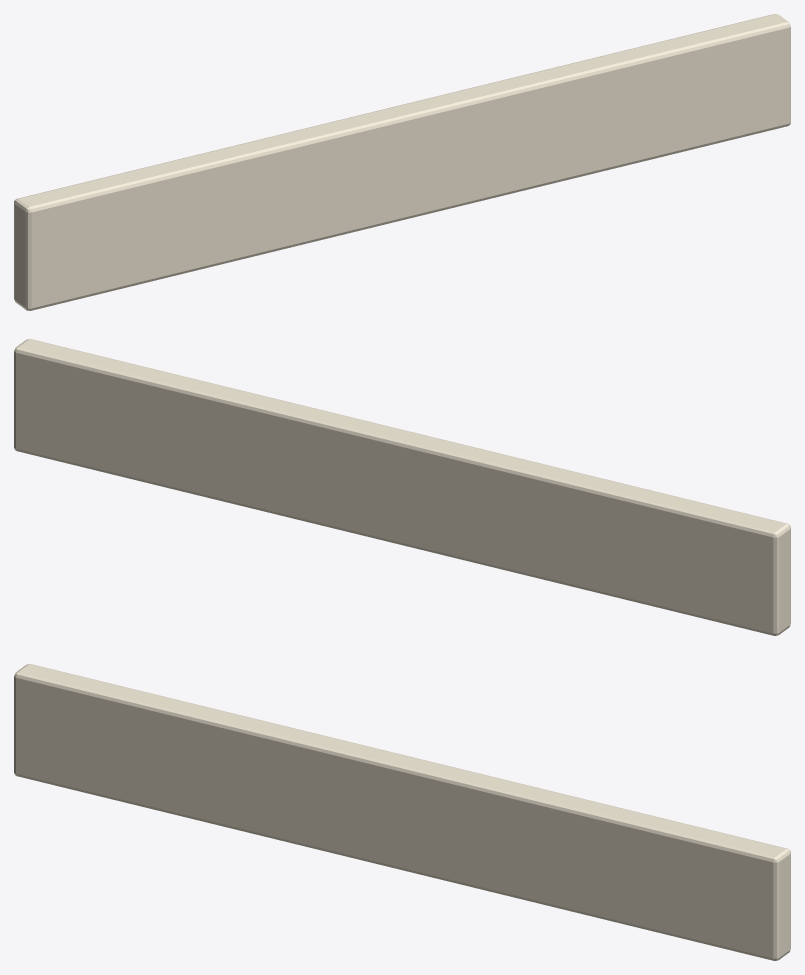
The model's file is skirting.glb.
3 renders of one model, top to bottom at view 1: azimuth 30°, elevation 25°; view 2: azimuth 150°, elevation 25°; view 3: azimuth 330°, elevation 25°, orthographic.
Visible parts, largest first — view 1: skirting_Mesh; view 2: skirting_Mesh; view 3: skirting_Mesh.
Boxes of the visible parts, x1,y1,x2,y2 form: skirting_Mesh: [14, 14, 790, 310]; skirting_Mesh: [14, 339, 790, 635]; skirting_Mesh: [14, 664, 790, 960].
Bounding box in the file's own units: 1 × 0.13 × 0.035.
